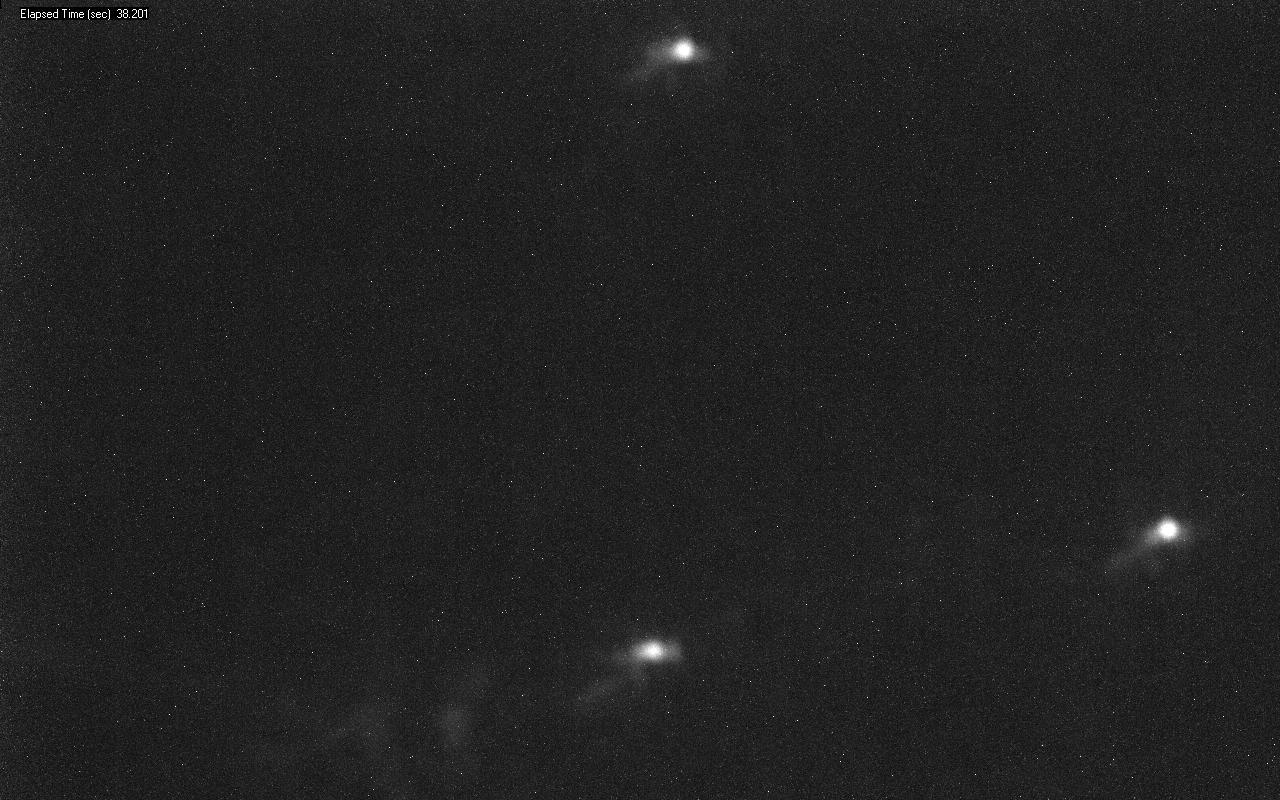Bead: (626, 638, 680, 664), (658, 36, 705, 65), (1150, 519, 1186, 544)
